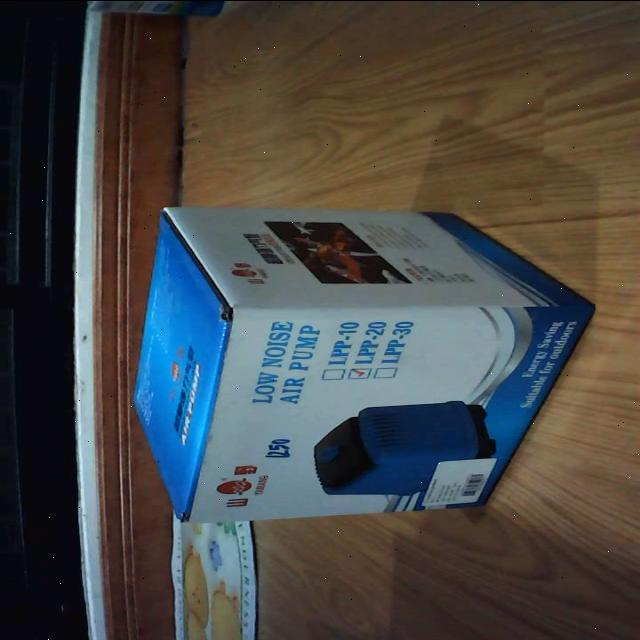YAMANO_LPP_20: (121, 198, 601, 526)
